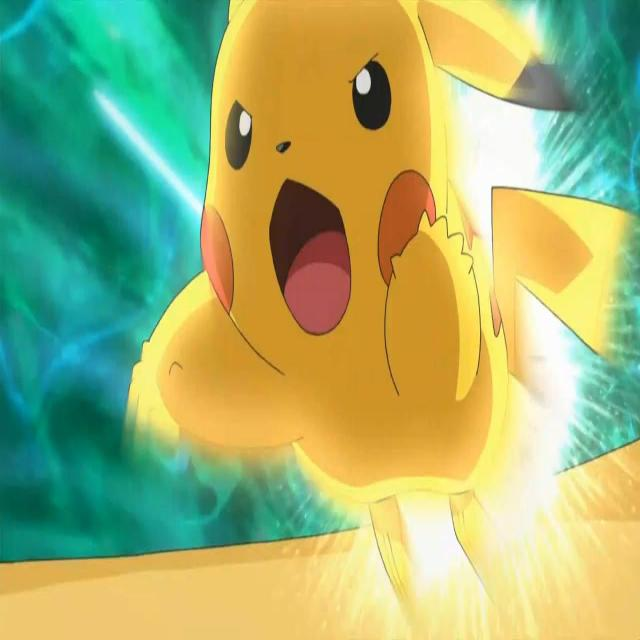pikachu: (130, 0, 640, 552)
